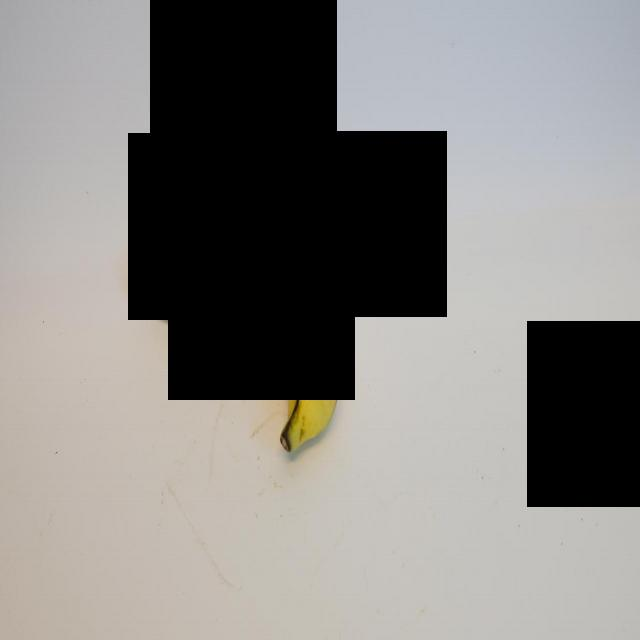banana: (137, 230, 340, 458)
